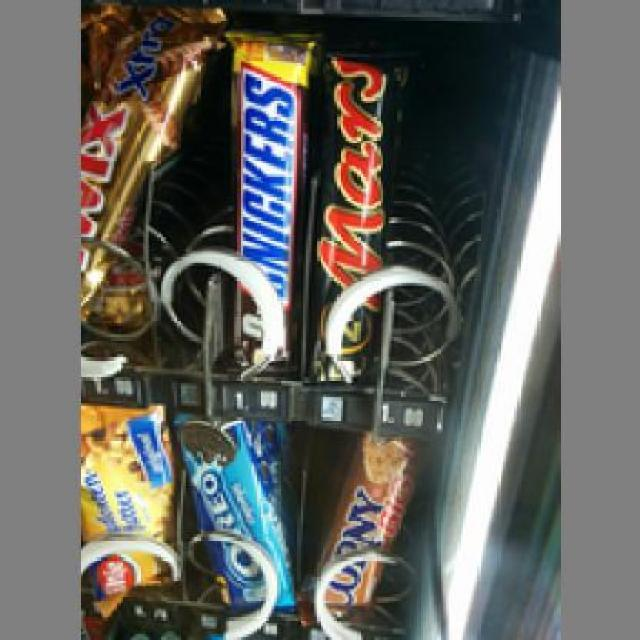Chocolate bar: (217, 29, 306, 369), (308, 40, 390, 386), (306, 423, 420, 628), (76, 400, 172, 609)
Merendine: (172, 408, 290, 604)
